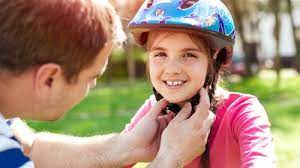helmets: (127, 0, 237, 68)
